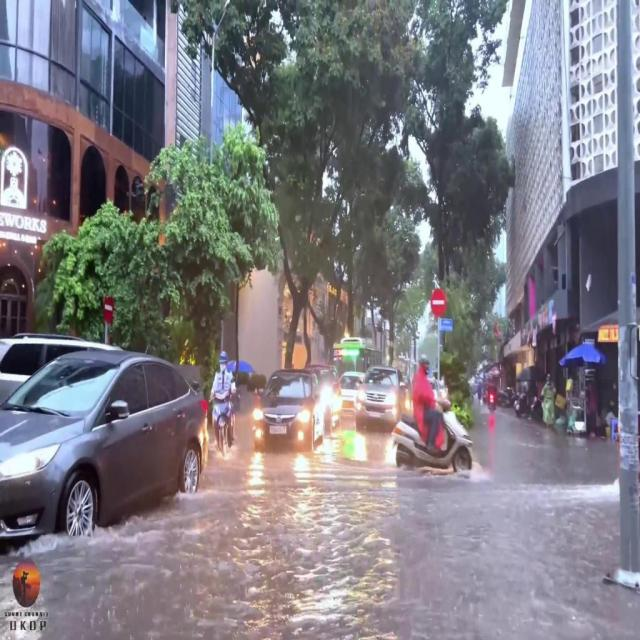cam_xe_di_nguoc_chieu: (430, 287, 446, 316), (103, 297, 114, 322)
